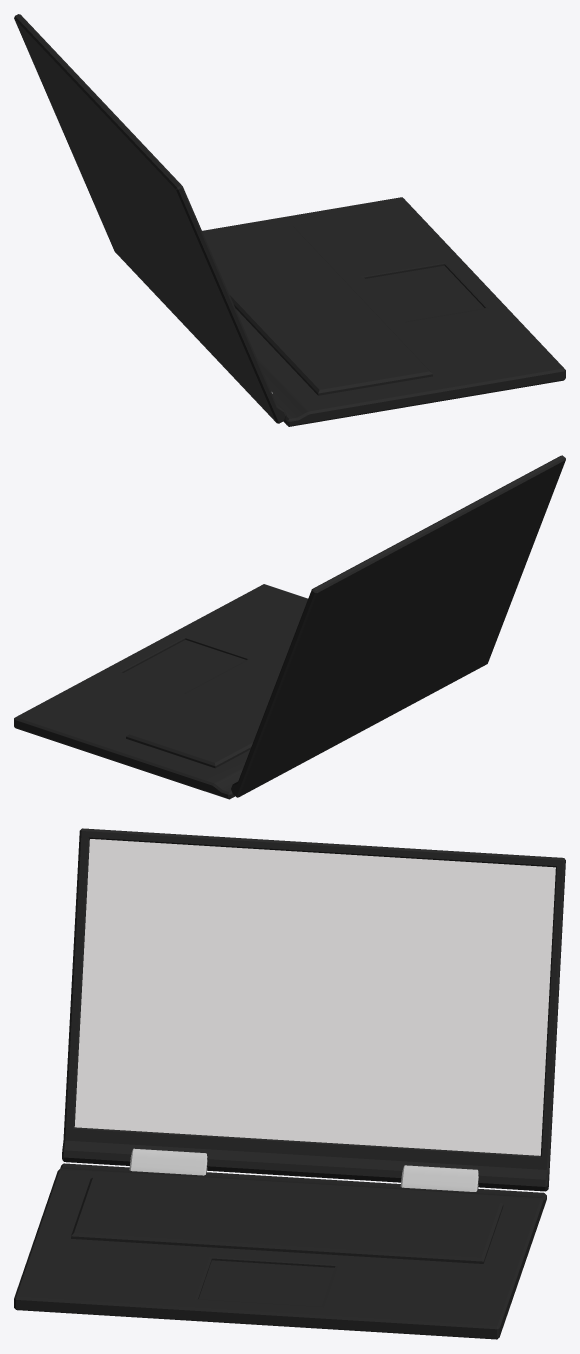
The model's file is Laptop.fbx.
3 views of the same model, one above another, from view 1: azimuth 30°, elevation 25°; view 2: azimuth 150°, elevation 25°; view 3: azimuth 270°, elevation 25° (orthographic). The views are drawn at different scales.
Visible parts, largest first — view 1: pasted__pCube1, pasted__pCube2; view 2: pasted__pCube2, pasted__pCube1; view 3: pasted__pCube2, pasted__pCube1, pasted__pCylinder2.
Part boxes in pixels (x1=…): pasted__pCube1: x1=202, y1=197, x2=565, y2=426; pasted__pCube2: x1=14, y1=14, x2=286, y2=423; pasted__pCube2: x1=231, y1=455, x2=565, y2=797; pasted__pCube1: x1=14, y1=584, x2=307, y2=799; pasted__pCube2: x1=62, y1=828, x2=565, y2=1191; pasted__pCube1: x1=14, y1=1163, x2=546, y2=1339; pasted__pCylinder2: x1=129, y1=1148, x2=478, y2=1191.
Bounding box in the file's own units: 0.9048 × 0.5424 × 0.9384.
